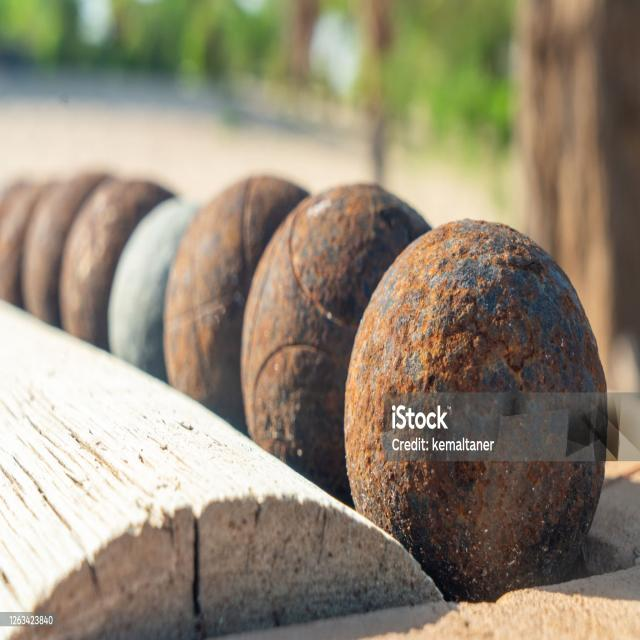petanque: (337, 214, 615, 610), (230, 174, 446, 509), (158, 168, 323, 436), (97, 195, 221, 372)
